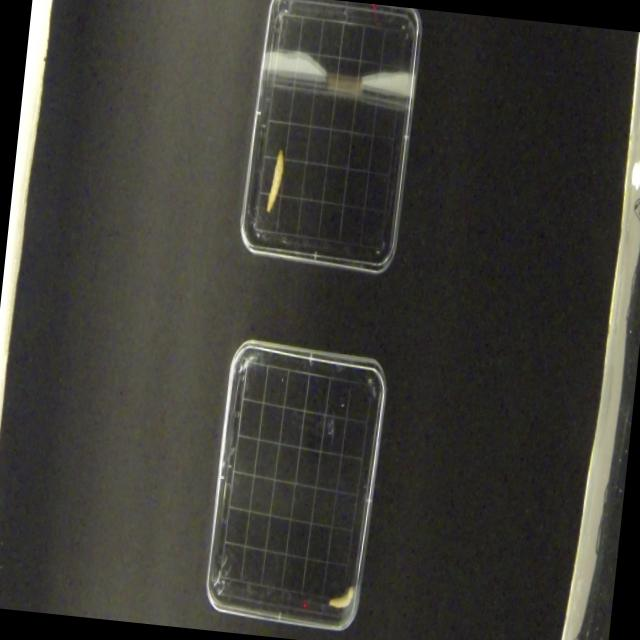larva: (266, 142, 286, 212), (328, 580, 356, 611)
